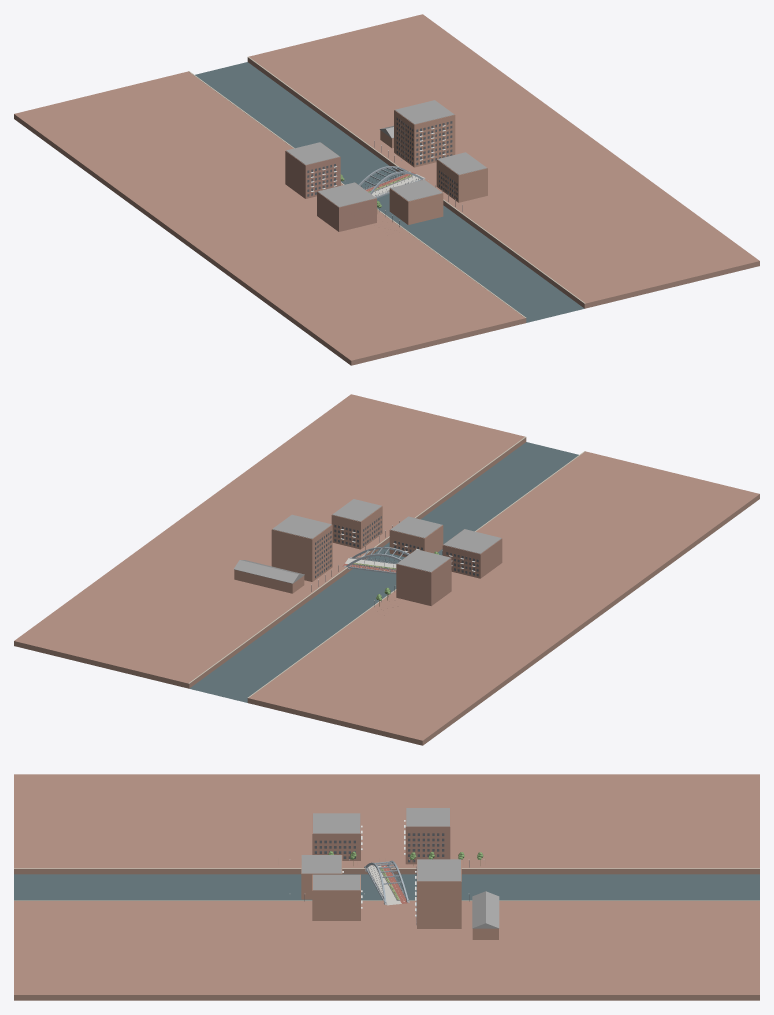
The model's file is clay-tied-arch-shared-bridge-clay-v002.glb.
3 renders of one model, top to bottom at view 1: azimuth 30°, elevation 25°; view 2: azimuth 150°, elevation 25°; view 3: azimuth 270°, elevation 25°, orthographic. The views are drawn at different scales.
Parts seen in each view (by area): view 1: CLAY_PAVING, CLAY_WATER, CLAY_QUAY, CLAY_BRICK, CLAY_ROOF, CLAY_BRICK2, CLAY_DARK, CLAY_STONE; view 2: CLAY_PAVING, CLAY_WATER, CLAY_BRICK, CLAY_QUAY, CLAY_ROOF, CLAY_BRICK2, CLAY_DARK, CLAY_STONE; view 3: CLAY_PAVING, CLAY_WATER, CLAY_QUAY, CLAY_ROOF, CLAY_BRICK, CLAY_BRICK2, CLAY_STONE, CLAY_DARK, CLAY_ARCH, CLAY_PATH.
Boxes of the visible parts, x1=… form: CLAY_PAVING: x1=14, y1=14, x2=759, y2=360; CLAY_WATER: x1=195, y1=62, x2=584, y2=322; CLAY_QUAY: x1=14, y1=57, x2=759, y2=365; CLAY_BRICK: x1=380, y1=101, x2=487, y2=224; CLAY_ROOF: x1=286, y1=100, x2=486, y2=207; CLAY_BRICK2: x1=285, y1=143, x2=376, y2=231; CLAY_DARK: x1=307, y1=117, x2=462, y2=226; CLAY_STONE: x1=188, y1=56, x2=585, y2=317; CLAY_PAVING: x1=14, y1=394, x2=759, y2=740; CLAY_WATER: x1=189, y1=442, x2=578, y2=702; CLAY_BRICK: x1=234, y1=506, x2=443, y2=593; CLAY_QUAY: x1=14, y1=437, x2=759, y2=745; CLAY_ROOF: x1=234, y1=499, x2=501, y2=583; CLAY_BRICK2: x1=396, y1=532, x2=502, y2=605; CLAY_DARK: x1=311, y1=516, x2=478, y2=606; CLAY_STONE: x1=188, y1=436, x2=585, y2=697; CLAY_PAVING: x1=14, y1=774, x2=759, y2=994; CLAY_WATER: x1=14, y1=874, x2=759, y2=900; CLAY_QUAY: x1=14, y1=858, x2=759, y2=1000; CLAY_ROOF: x1=301, y1=808, x2=499, y2=928; CLAY_BRICK: x1=301, y1=855, x2=498, y2=939; CLAY_BRICK2: x1=312, y1=808, x2=450, y2=864; CLAY_STONE: x1=14, y1=868, x2=759, y2=900; CLAY_DARK: x1=304, y1=833, x2=469, y2=924; CLAY_ARCH: x1=365, y1=860, x2=408, y2=902; CLAY_PATH: x1=367, y1=865, x2=401, y2=905.
Size of the model in its own units: 280 by 31.48 by 400.
